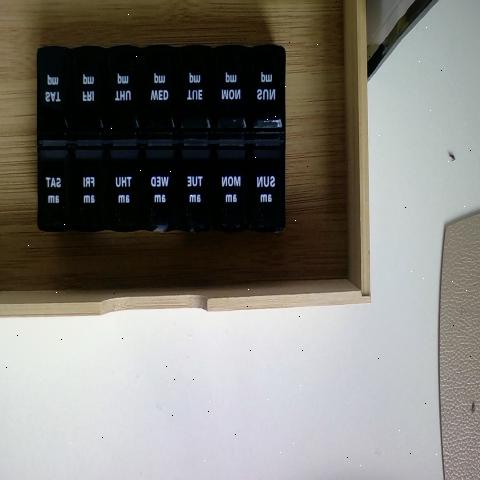FRI-am: (75, 142, 106, 230)
FRI-pm: (73, 50, 103, 134)
MON-am: (216, 140, 247, 228)
MON-pm: (212, 46, 251, 130)
SAT-am: (36, 136, 73, 232)
SAT-pm: (36, 46, 73, 138)
SUN-am: (251, 140, 286, 228)
SUN-pm: (251, 47, 285, 127)
THU-am: (109, 146, 142, 232)
THU-pm: (104, 48, 142, 134)
TUE-am: (179, 144, 213, 230)
TUE-pm: (177, 46, 212, 136)
WED-am: (145, 139, 176, 235)
WED-pm: (141, 47, 177, 137)
